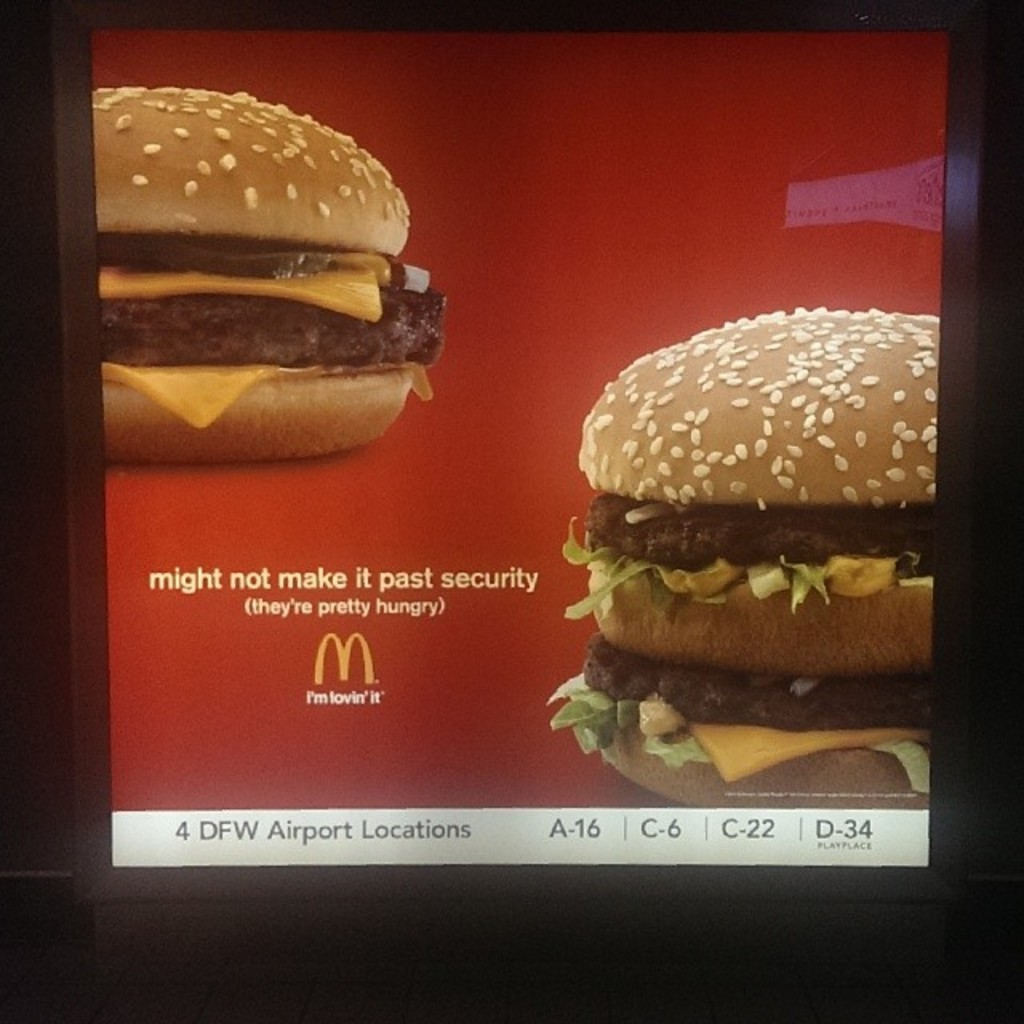Hamburger: (544, 308, 935, 811), (94, 86, 449, 464)
